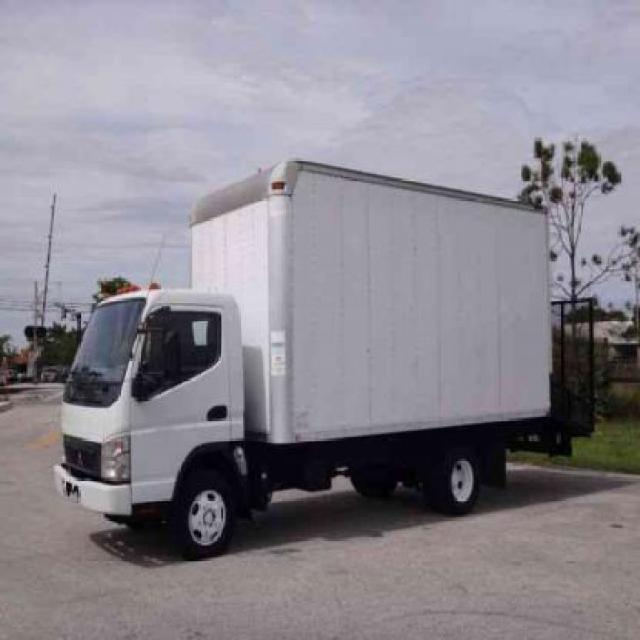truck: (52, 157, 593, 553)
